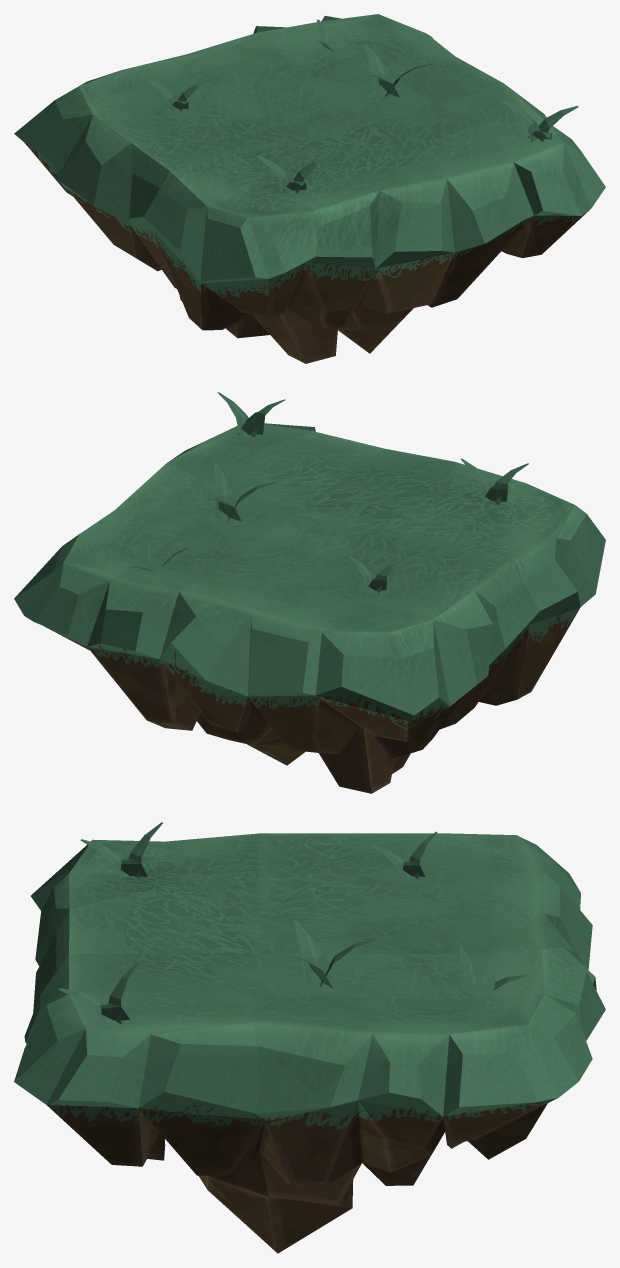
Rendered from Platform.fbx.
3 renders of one model, top to bottom at view 1: azimuth 30°, elevation 25°; view 2: azimuth 150°, elevation 25°; view 3: azimuth 270°, elevation 25°, orthographic. The views are drawn at different scales.
Parts seen in each view (by area): view 1: Cube; view 2: Cube; view 3: Cube.
Part boxes in pixels (<box>): Cube: <box>14,14,605,363</box>; Cube: <box>14,392,605,793</box>; Cube: <box>14,822,605,1253</box>.
Size of the model in its own units: 468 by 306 by 484.
